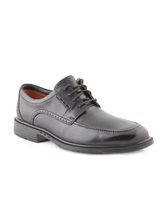shoes: (14, 76, 158, 159)
